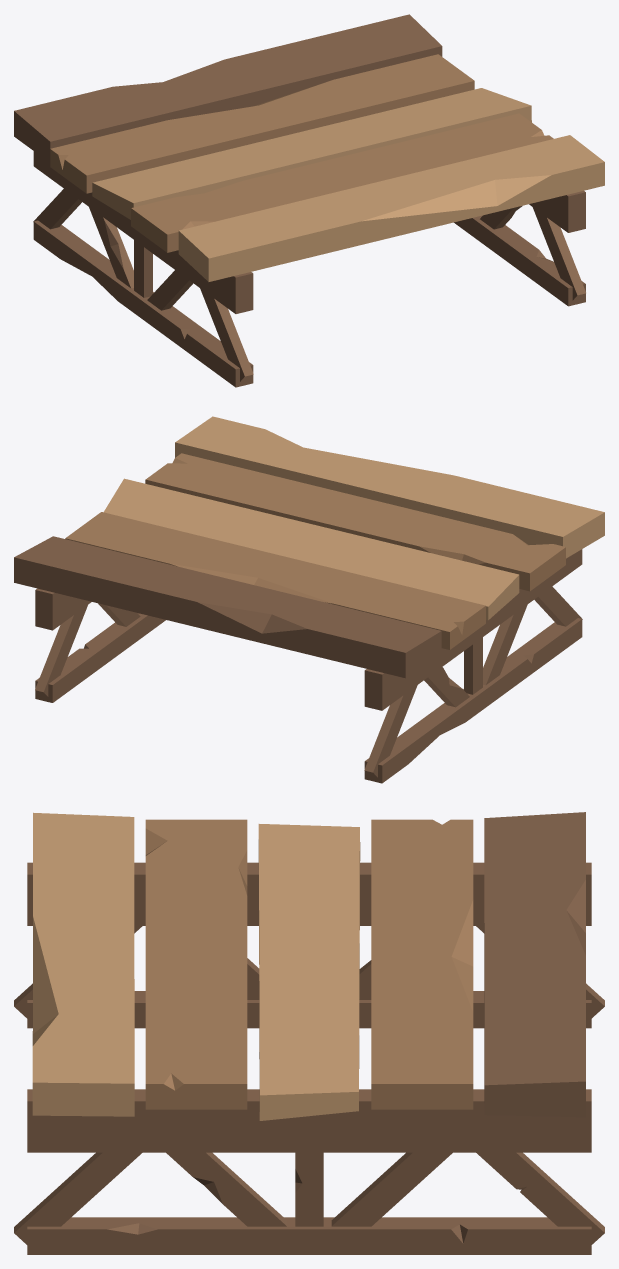
Rendered from woodenBridge_block.glb.
3 views of the same model, one above another, from view 1: azimuth 30°, elevation 25°; view 2: azimuth 150°, elevation 25°; view 3: azimuth 270°, elevation 25° (orthographic). The views are drawn at different scales.
Visible parts, largest first — view 1: Bridge_003; view 2: Bridge_003; view 3: Bridge_003.
Part boxes in pixels (left/top/right/bottom): Bridge_003: left=14, top=14, right=604, bottom=387; Bridge_003: left=14, top=416, right=604, bottom=783; Bridge_003: left=14, top=812, right=604, bottom=1254.
Bounding box in the file's own units: 1.16 × 0.3704 × 1.05.
Materials: 1 (1 with a texture image).
